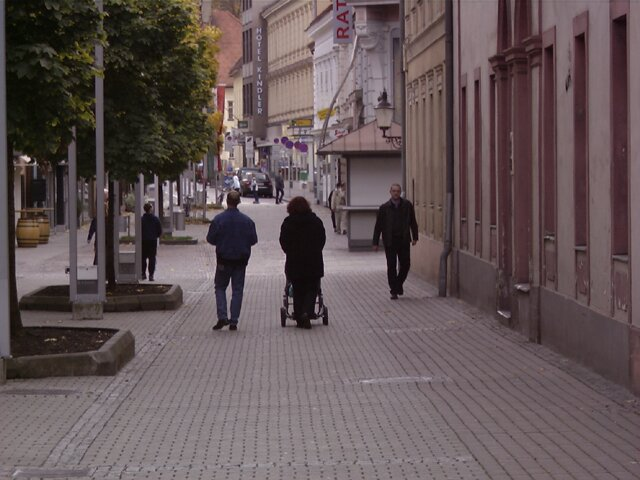person: (273, 197, 338, 331), (204, 185, 258, 336), (367, 181, 427, 303)
